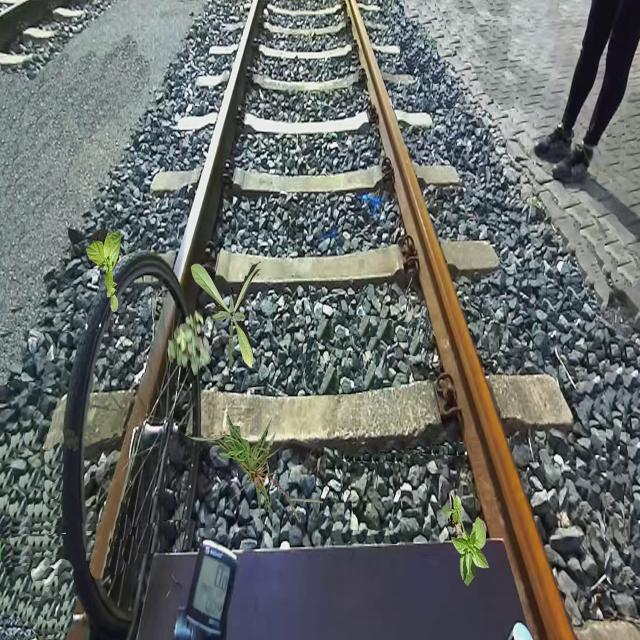Plant: (180, 414, 324, 534), (191, 262, 262, 370), (442, 492, 490, 587), (86, 229, 122, 312), (167, 309, 210, 376)
